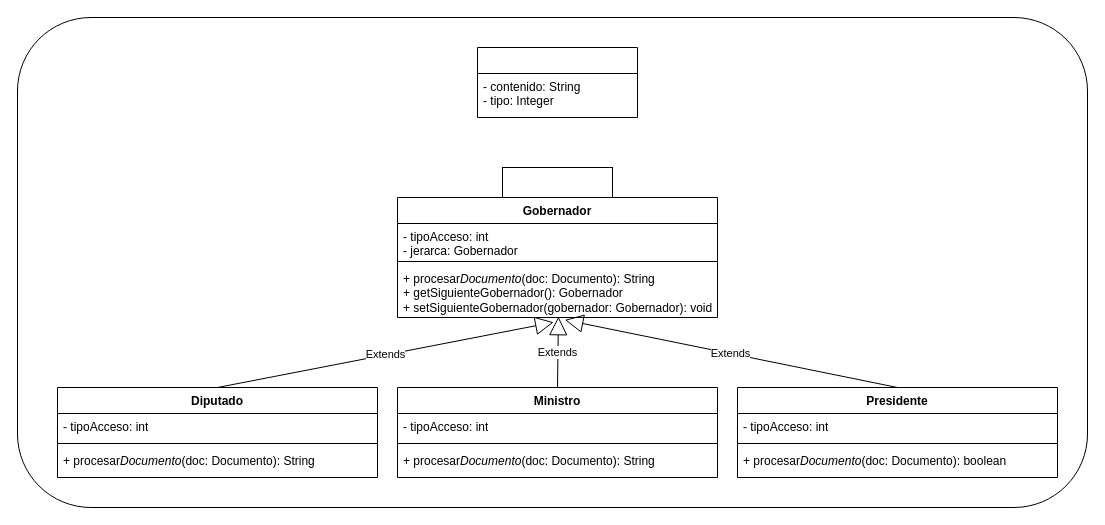
Image size: 1105x525. Some labels were removed from this diagram. Each missing label, with the box of its shape:
<< abstract >>: (502, 166, 612, 198)
Documento: (476, 46, 638, 118)
